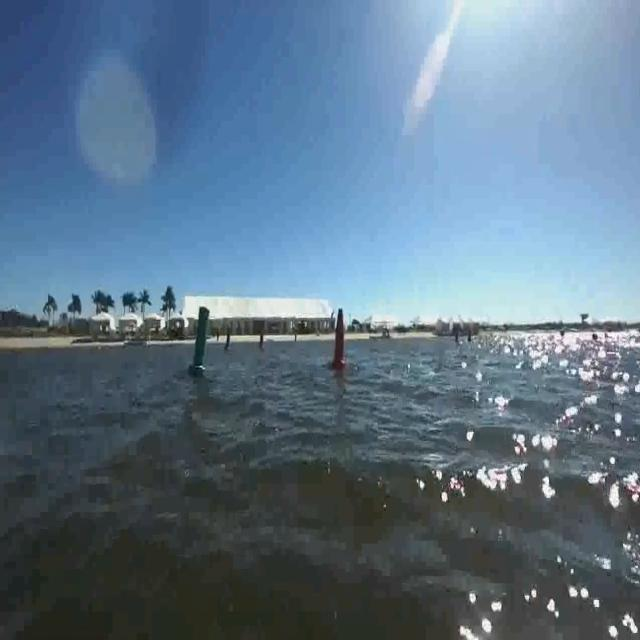green-column-buoy: (187, 304, 211, 376)
red-column-buoy: (331, 308, 350, 372)
